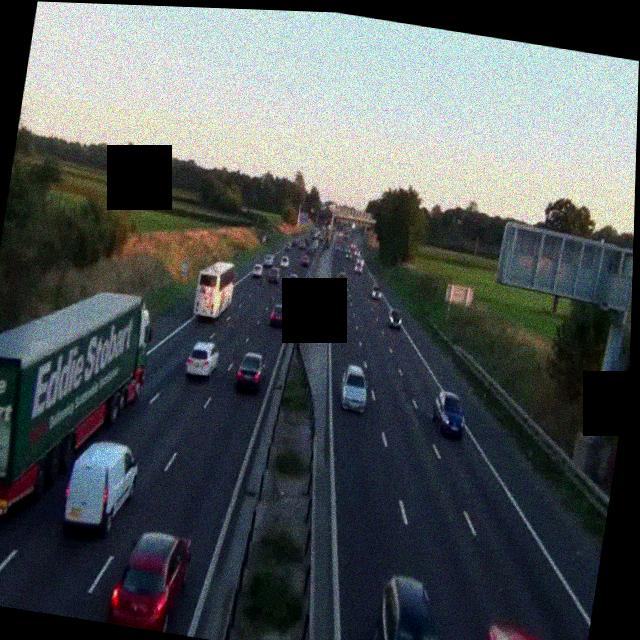bus: (192, 258, 237, 324)
car: (105, 524, 194, 635), (59, 436, 141, 540), (369, 571, 460, 640), (429, 388, 467, 439), (479, 620, 573, 640), (337, 364, 370, 412), (184, 338, 220, 381), (234, 350, 267, 392), (269, 302, 288, 329), (386, 305, 403, 330), (286, 273, 300, 291), (251, 262, 264, 280), (266, 265, 279, 282), (279, 253, 291, 270), (370, 281, 382, 298), (335, 271, 347, 287), (267, 249, 278, 265), (352, 258, 363, 273), (300, 254, 309, 267), (286, 239, 295, 250), (308, 241, 316, 252)
truck: (0, 273, 158, 535)
